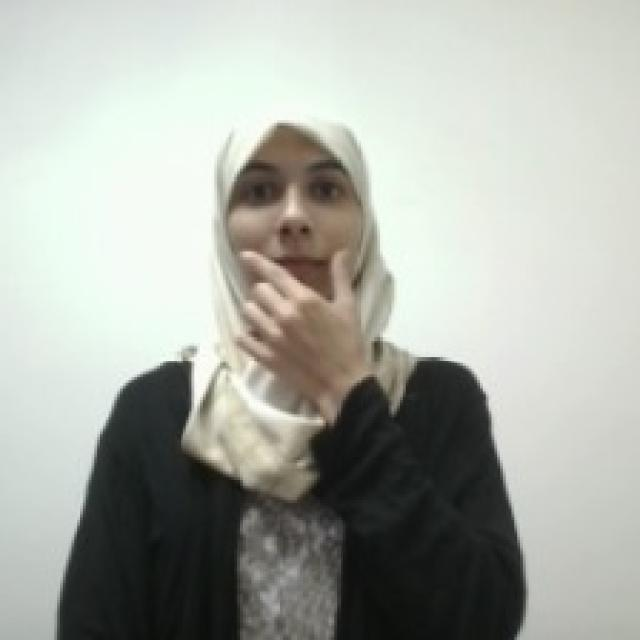smile: (232, 242, 369, 363)
